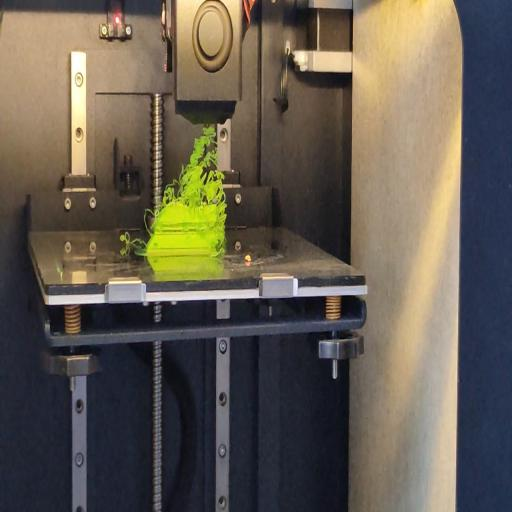spaghetti: (161, 127, 227, 209), (214, 205, 226, 256), (117, 230, 148, 248), (142, 206, 154, 236)
